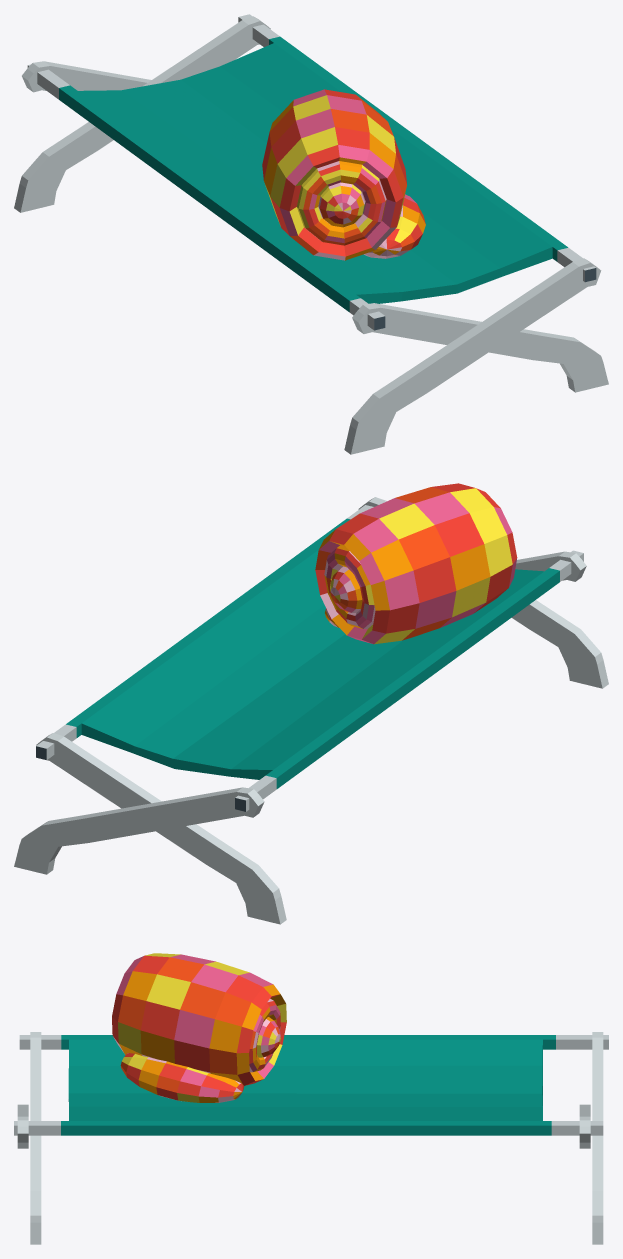
The picture shows the model from 3 angles, top to bottom: view 1: azimuth 30°, elevation 25°; view 2: azimuth 150°, elevation 25°; view 3: azimuth 270°, elevation 25°; orthographic projection. The views are drawn at different scales.
Parts seen in each view (by area): view 1: group525752226, group1041837734, group1224999123, group802491558, group1037513086, group2041126463, group499535218, group215986146, group1577345827, group559781611, group2051142577; view 2: group525752226, group1041837734, group1577345827, group2041126463, group802491558, group215986146, group1224999123, group955491185, group911579974, group1037513086; view 3: group525752226, group1041837734, group215986146, group559781611, group802491558, group1577345827, group1037513086, group955491185, group911579974, group2041126463, group1224999123.
Boxes of the visible parts, x1,y1,x2,y2 form: group525752226: [78, 43, 552, 303]; group1041837734: [262, 89, 406, 260]; group1224999123: [344, 258, 601, 454]; group802491558: [27, 64, 385, 330]; group1037513086: [352, 303, 608, 392]; group2041126463: [14, 16, 270, 212]; group499535218: [296, 161, 386, 245]; group215986146: [238, 14, 596, 282]; group1577345827: [22, 61, 151, 92]; group559781611: [364, 194, 425, 258]; group2051142577: [318, 182, 364, 227]; group525752226: [81, 550, 543, 779]; group1041837734: [315, 483, 517, 644]; group1577345827: [14, 787, 264, 874]; group2041126463: [36, 733, 286, 924]; group802491558: [235, 550, 583, 811]; group215986146: [36, 505, 373, 760]; group1224999123: [358, 497, 608, 688]; group955491185: [324, 545, 375, 628]; group911579974: [330, 566, 362, 612]; group1037513086: [515, 551, 586, 581]; group525752226: [68, 1039, 542, 1120]; group1041837734: [112, 953, 286, 1085]; group215986146: [14, 1121, 603, 1135]; group559781611: [120, 1053, 244, 1102]; group802491558: [19, 1035, 608, 1049]; group1577345827: [592, 1032, 603, 1244]; group1037513086: [30, 1032, 41, 1244]; group955491185: [249, 998, 280, 1072]; group911579974: [256, 1017, 280, 1057]; group2041126463: [579, 1104, 590, 1148]; group1224999123: [17, 1104, 28, 1148].
Bounding box in the file's own units: 0.4737 × 0.4162 × 1.08.
